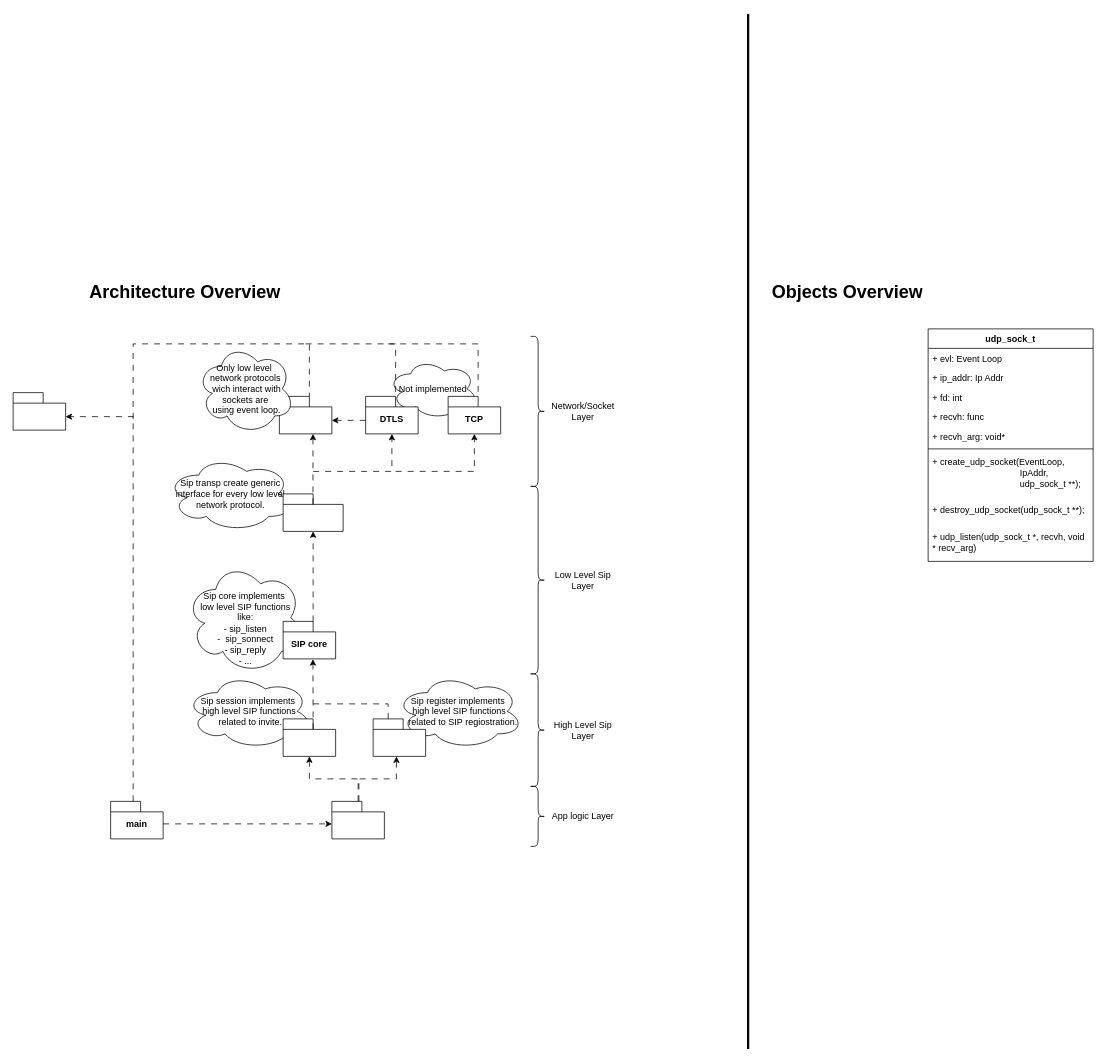
Image size: 1106x1064. Some labels were removed from this diagram. The shapes that lost their labels are listed below. From the top down, each one's centre as x and y in pixels, then its label:
(39,411): Event loop
(305,415): UDP
(312,512): SIP transp
(309,737): SIP session
(399,737): SIP register
(357,820): SIP Ua
